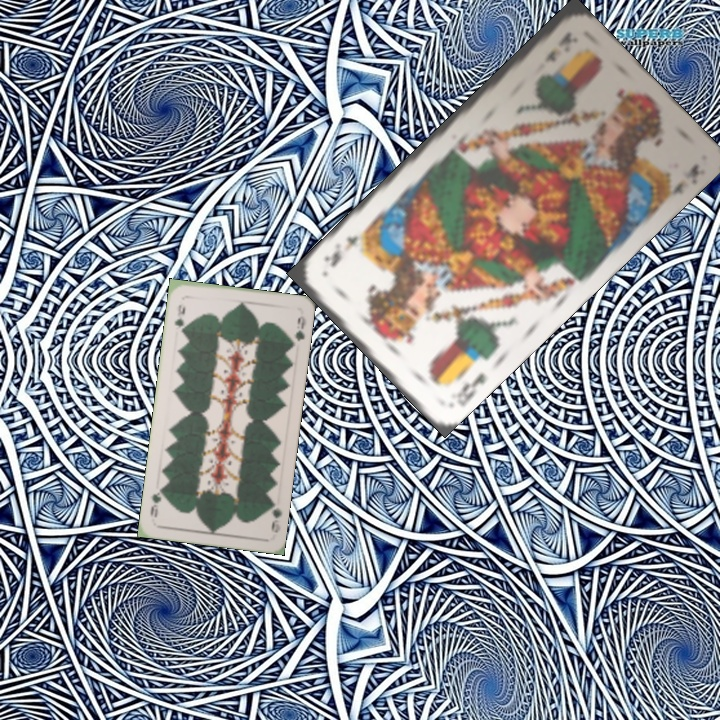EK: (540, 27, 578, 65), (452, 369, 488, 408)
G9: (265, 496, 285, 535), (170, 300, 188, 336)
